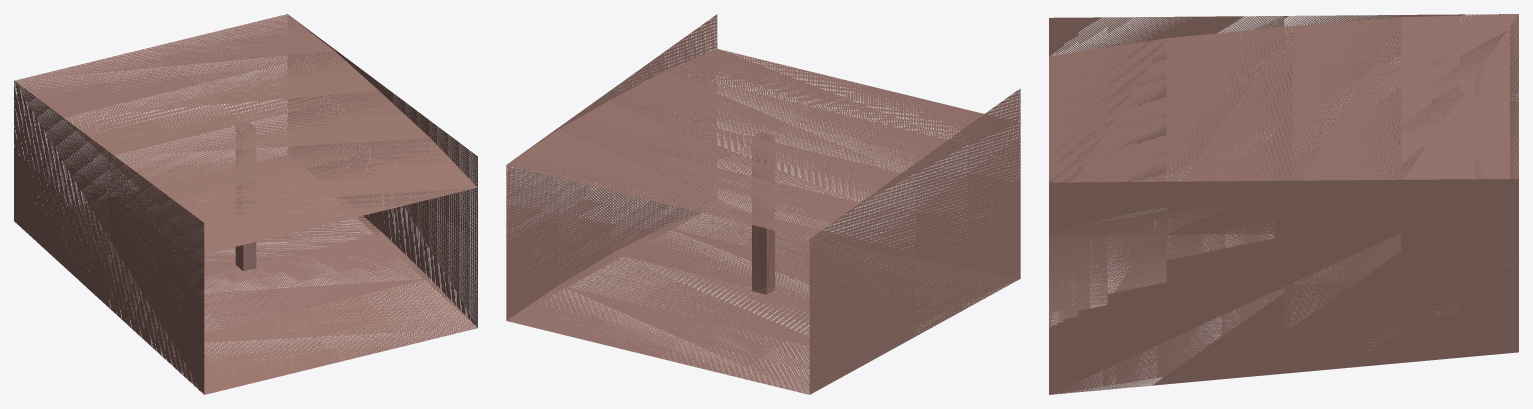
Rendered from SW_ENV_RailTunnel_Riser_B_Double_10m_FF_Collision.fbx.
The picture shows the model from 3 angles, left to right: view 1: azimuth 30°, elevation 25°; view 2: azimuth 150°, elevation 25°; view 3: azimuth 270°, elevation 25°; orthographic projection. The views are drawn at different scales.
Parts seen in each view (by area): view 1: SW_ENV_RailTunnel_Riser_B_Double_10m_FF_Collision; view 2: SW_ENV_RailTunnel_Riser_B_Double_10m_FF_Collision; view 3: SW_ENV_RailTunnel_Riser_B_Double_10m_FF_Collision.
Part boxes in pixels (<box>): SW_ENV_RailTunnel_Riser_B_Double_10m_FF_Collision: <box>14,14,477,394</box>; SW_ENV_RailTunnel_Riser_B_Double_10m_FF_Collision: <box>506,14,1020,394</box>; SW_ENV_RailTunnel_Riser_B_Double_10m_FF_Collision: <box>1049,14,1518,394</box>.
Bounding box in the file's own units: 8.3 × 5.08 × 10.
